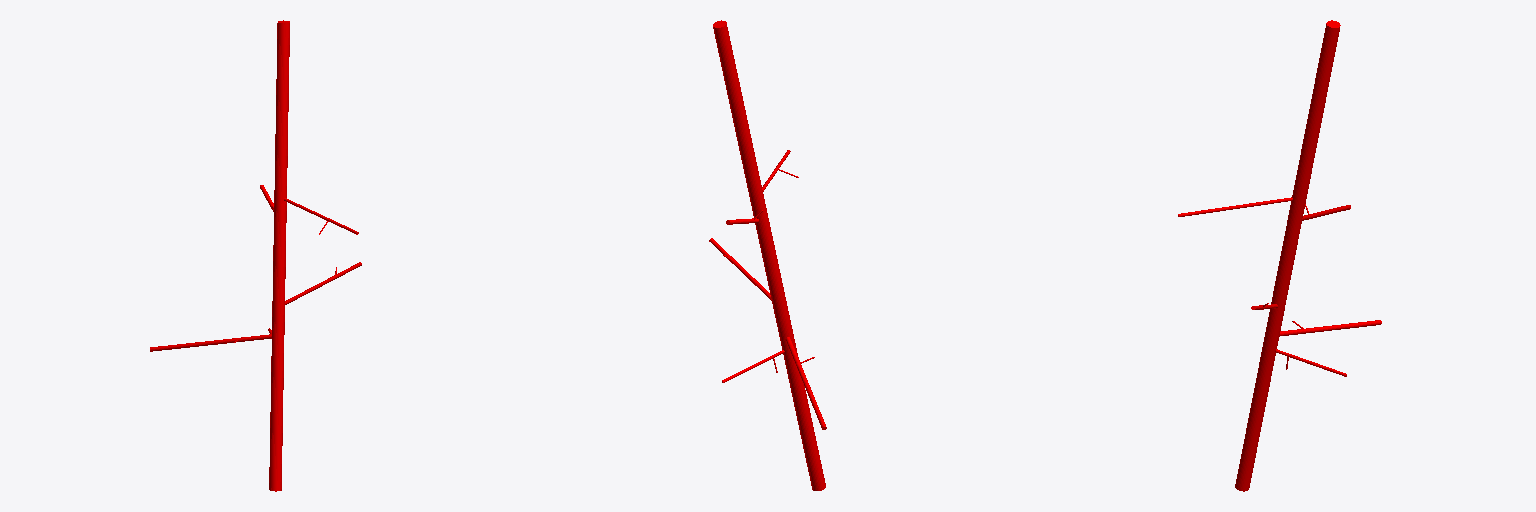
URDF robot description (tree_43.urdf):
<?xml version='1.0' encoding='UTF-8'?>
<robot name="tree_43.urdf">
  <link name="branch_0">
    <inertial>
      <origin xyz="0.0 0.0 0.0" rpy="0.0 -0.0 0.0"/>
      <mass value="0.1"/>
      <inertia ixx="0.001" ixy="0.0" ixz="0.0" iyy="0.001" iyz="0.0" izz="0.001"/>
    </inertial>
    <visual name="branch_0_visual">
      <geometry>
        <cylinder radius="0.09272214818983693" length="7.057706722959421"/>
      </geometry>
      <material name="semantic_material"/>
      <origin xyz="0.4082733569103331 0.5835118439904567 3.4562454832934932" rpy="5.551115123125783e-17 0.20320647457545538 0.9602831004716582"/>
    </visual>
    <collision name="branch_0_collision">
      <geometry>
        <cylinder radius="0.09272214818983693" length="7.057706722959421"/>
      </geometry>
      <origin xyz="0.4082733569103331 0.5835118439904567 3.4562454832934932" rpy="5.551115123125783e-17 0.20320647457545538 0.9602831004716582"/>
    </collision>
  </link>
  <link name="branch_1">
    <inertial>
      <origin xyz="0.0 0.0 0.0" rpy="0.0 -0.0 0.0"/>
      <mass value="0.1"/>
      <inertia ixx="0.001" ixy="0.0" ixz="0.0" iyy="0.001" iyz="0.0" izz="0.001"/>
    </inertial>
    <visual name="branch_1_visual">
      <geometry>
        <cylinder radius="0.028512248447388585" length="1.371884924202704"/>
      </geometry>
      <material name="semantic_material"/>
      <origin xyz="0.0 0.0 0.0" rpy="0.0 -0.0 0.0"/>
    </visual>
    <collision name="branch_1_collision">
      <geometry>
        <cylinder radius="0.028512248447388585" length="1.371884924202704"/>
      </geometry>
      <origin xyz="0.0 0.0 0.0" rpy="0.0 -0.0 0.0"/>
    </collision>
  </link>
  <link name="branch_2">
    <inertial>
      <origin xyz="0.0 0.0 0.0" rpy="0.0 -0.0 0.0"/>
      <mass value="0.1"/>
      <inertia ixx="0.001" ixy="0.0" ixz="0.0" iyy="0.001" iyz="0.0" izz="0.001"/>
    </inertial>
    <visual name="branch_2_visual">
      <geometry>
        <cylinder radius="0.01" length="0.15637905510150962"/>
      </geometry>
      <material name="semantic_material"/>
      <origin xyz="0.0 0.0 0.0" rpy="0.0 -0.0 0.0"/>
    </visual>
    <collision name="branch_2_collision">
      <geometry>
        <cylinder radius="0.01" length="0.15637905510150962"/>
      </geometry>
      <origin xyz="0.0 0.0 0.0" rpy="0.0 -0.0 0.0"/>
    </collision>
  </link>
  <link name="branch_3">
    <inertial>
      <origin xyz="0.0 0.0 0.0" rpy="0.0 -0.0 0.0"/>
      <mass value="0.1"/>
      <inertia ixx="0.001" ixy="0.0" ixz="0.0" iyy="0.001" iyz="0.0" izz="0.001"/>
    </inertial>
    <visual name="branch_3_visual">
      <geometry>
        <cylinder radius="0.022987652517376545" length="1.6013910973770178"/>
      </geometry>
      <material name="semantic_material"/>
      <origin xyz="0.0 0.0 0.0" rpy="0.0 -0.0 0.0"/>
    </visual>
    <collision name="branch_3_collision">
      <geometry>
        <cylinder radius="0.022987652517376545" length="1.6013910973770178"/>
      </geometry>
      <origin xyz="0.0 0.0 0.0" rpy="0.0 -0.0 0.0"/>
    </collision>
  </link>
  <link name="branch_4">
    <inertial>
      <origin xyz="0.0 0.0 0.0" rpy="0.0 -0.0 0.0"/>
      <mass value="0.1"/>
      <inertia ixx="0.001" ixy="0.0" ixz="0.0" iyy="0.001" iyz="0.0" izz="0.001"/>
    </inertial>
    <visual name="branch_4_visual">
      <geometry>
        <cylinder radius="0.01" length="0.31152533745409244"/>
      </geometry>
      <material name="semantic_material"/>
      <origin xyz="0.0 0.0 0.0" rpy="0.0 -0.0 0.0"/>
    </visual>
    <collision name="branch_4_collision">
      <geometry>
        <cylinder radius="0.01" length="0.31152533745409244"/>
      </geometry>
      <origin xyz="0.0 0.0 0.0" rpy="0.0 -0.0 0.0"/>
    </collision>
  </link>
  <link name="branch_5">
    <inertial>
      <origin xyz="0.0 0.0 0.0" rpy="0.0 -0.0 0.0"/>
      <mass value="0.1"/>
      <inertia ixx="0.001" ixy="0.0" ixz="0.0" iyy="0.001" iyz="0.0" izz="0.001"/>
    </inertial>
    <visual name="branch_5_visual">
      <geometry>
        <cylinder radius="0.03130832208716406" length="0.7539563826562632"/>
      </geometry>
      <material name="semantic_material"/>
      <origin xyz="0.0 0.0 0.0" rpy="0.0 -0.0 0.0"/>
    </visual>
    <collision name="branch_5_collision">
      <geometry>
        <cylinder radius="0.03130832208716406" length="0.7539563826562632"/>
      </geometry>
      <origin xyz="0.0 0.0 0.0" rpy="0.0 -0.0 0.0"/>
    </collision>
  </link>
  <link name="branch_6">
    <inertial>
      <origin xyz="0.0 0.0 0.0" rpy="0.0 -0.0 0.0"/>
      <mass value="0.1"/>
      <inertia ixx="0.001" ixy="0.0" ixz="0.0" iyy="0.001" iyz="0.0" izz="0.001"/>
    </inertial>
    <visual name="branch_6_visual">
      <geometry>
        <cylinder radius="0.01" length="0.19498363850834788"/>
      </geometry>
      <material name="semantic_material"/>
      <origin xyz="0.0 0.0 0.0" rpy="0.0 -0.0 0.0"/>
    </visual>
    <collision name="branch_6_collision">
      <geometry>
        <cylinder radius="0.01" length="0.19498363850834788"/>
      </geometry>
      <origin xyz="0.0 0.0 0.0" rpy="0.0 -0.0 0.0"/>
    </collision>
  </link>
  <link name="branch_7">
    <inertial>
      <origin xyz="0.0 0.0 0.0" rpy="0.0 -0.0 0.0"/>
      <mass value="0.1"/>
      <inertia ixx="0.001" ixy="0.0" ixz="0.0" iyy="0.001" iyz="0.0" izz="0.001"/>
    </inertial>
    <visual name="branch_7_visual">
      <geometry>
        <cylinder radius="0.0215005593996787" length="1.0910566503989045"/>
      </geometry>
      <material name="semantic_material"/>
      <origin xyz="0.0 0.0 0.0" rpy="0.0 -0.0 0.0"/>
    </visual>
    <collision name="branch_7_collision">
      <geometry>
        <cylinder radius="0.0215005593996787" length="1.0910566503989045"/>
      </geometry>
      <origin xyz="0.0 0.0 0.0" rpy="0.0 -0.0 0.0"/>
    </collision>
  </link>
  <link name="branch_8">
    <inertial>
      <origin xyz="0.0 0.0 0.0" rpy="0.0 -0.0 0.0"/>
      <mass value="0.1"/>
      <inertia ixx="0.001" ixy="0.0" ixz="0.0" iyy="0.001" iyz="0.0" izz="0.001"/>
    </inertial>
    <visual name="branch_8_visual">
      <geometry>
        <cylinder radius="0.01" length="0.23105213754643494"/>
      </geometry>
      <material name="semantic_material"/>
      <origin xyz="0.0 0.0 0.0" rpy="0.0 -0.0 0.0"/>
    </visual>
    <collision name="branch_8_collision">
      <geometry>
        <cylinder radius="0.01" length="0.23105213754643494"/>
      </geometry>
      <origin xyz="0.0 0.0 0.0" rpy="0.0 -0.0 0.0"/>
    </collision>
  </link>
  <link name="branch_9">
    <inertial>
      <origin xyz="0.0 0.0 0.0" rpy="0.0 -0.0 0.0"/>
      <mass value="0.1"/>
      <inertia ixx="0.001" ixy="0.0" ixz="0.0" iyy="0.001" iyz="0.0" izz="0.001"/>
    </inertial>
    <visual name="branch_9_visual">
      <geometry>
        <cylinder radius="0.032198285912413416" length="1.997518507283669"/>
      </geometry>
      <material name="semantic_material"/>
      <origin xyz="0.0 0.0 0.0" rpy="0.0 -0.0 0.0"/>
    </visual>
    <collision name="branch_9_collision">
      <geometry>
        <cylinder radius="0.032198285912413416" length="1.997518507283669"/>
      </geometry>
      <origin xyz="0.0 0.0 0.0" rpy="0.0 -0.0 0.0"/>
    </collision>
  </link>
  <link name="branch_10">
    <inertial>
      <origin xyz="0.0 0.0 0.0" rpy="0.0 -0.0 0.0"/>
      <mass value="0.1"/>
      <inertia ixx="0.001" ixy="0.0" ixz="0.0" iyy="0.001" iyz="0.0" izz="0.001"/>
    </inertial>
    <visual name="branch_10_visual">
      <geometry>
        <cylinder radius="0.01" length="0.23811235783748366"/>
      </geometry>
      <material name="semantic_material"/>
      <origin xyz="0.0 0.0 0.0" rpy="0.0 -0.0 0.0"/>
    </visual>
    <collision name="branch_10_collision">
      <geometry>
        <cylinder radius="0.01" length="0.23811235783748366"/>
      </geometry>
      <origin xyz="0.0 0.0 0.0" rpy="0.0 -0.0 0.0"/>
    </collision>
  </link>
  <joint name="joint_0_1" type="fixed">
    <parent link="branch_0"/>
    <child link="branch_1"/>
    <axis xyz="1. 0. 0."/>
    <origin xyz="0.9307585445322089 0.30077715566188756 2.9786022491814657" rpy="-0.4589227186822222 1.1161358658165872 -0.7536495886143352"/>
  </joint>
  <joint name="joint_0_3" type="fixed">
    <parent link="branch_0"/>
    <child link="branch_3"/>
    <axis xyz="1. 0. 0."/>
    <origin xyz="0.7179950015445213 -0.04335583740404315 4.293484735407542" rpy="-1.7854416503130612 1.409786111522555 -3.0911273919047884"/>
  </joint>
  <joint name="joint_0_5" type="fixed">
    <parent link="branch_0"/>
    <child link="branch_5"/>
    <axis xyz="1. 0. 0."/>
    <origin xyz="0.5186155563391762 1.0285125294105955 4.106145702230983" rpy="0.3114306806222054 1.2376309063005961 1.766307602065474"/>
  </joint>
  <joint name="joint_0_7" type="fixed">
    <parent link="branch_0"/>
    <child link="branch_7"/>
    <axis xyz="1. 0. 0."/>
    <origin xyz="0.46074269416368996 0.8434311853985396 1.9856446349548285" rpy="2.909107813028068 1.3996426411854643 -2.218752897216111"/>
  </joint>
  <joint name="joint_0_9" type="fixed">
    <parent link="branch_0"/>
    <child link="branch_9"/>
    <axis xyz="1. 0. 0."/>
    <origin xyz="-0.4147555373350097 1.074791848364931 2.047656518091348" rpy="2.4374930432994657 1.2618466892424618 -1.5179053137518157"/>
  </joint>
  <joint name="joint_1_2" type="fixed">
    <parent link="branch_0"/>
    <child link="branch_2"/>
    <axis xyz="1. 0. 0."/>
    <origin xyz="1.1938679424472454 0.2901703703947979 3.125682563519029" rpy="0.9016084250570615 0.05401481782767027 2.3891025819903198"/>
  </joint>
  <joint name="joint_3_4" type="fixed">
    <parent link="branch_0"/>
    <child link="branch_4"/>
    <axis xyz="1. 0. 0."/>
    <origin xyz="0.6460340876713143 -0.3065496367856581 4.224216545608006" rpy="-1.9846458557930546 0.06909251116843157 2.065861610305939"/>
  </joint>
  <joint name="joint_5_6" type="fixed">
    <parent link="branch_0"/>
    <child link="branch_6"/>
    <axis xyz="1. 0. 0."/>
    <origin xyz="0.44211344942872643 0.8304457366405283 4.125234151862188" rpy="0.5772505446094489 0.4555348544023197 -1.6097869698331277"/>
  </joint>
  <joint name="joint_7_8" type="fixed">
    <parent link="branch_0"/>
    <child link="branch_8"/>
    <axis xyz="1. 0. 0."/>
    <origin xyz="0.32655735976405903 0.578835254086212 1.919551393796582" rpy="2.9940197275069167 -0.1763368512760519 -1.9814644272416355"/>
  </joint>
  <joint name="joint_9_10" type="fixed">
    <parent link="branch_0"/>
    <child link="branch_10"/>
    <axis xyz="1. 0. 0."/>
    <origin xyz="-0.23486843468013768 0.7316929424452363 2.1689013978356813" rpy="1.2706827040389332 -0.20042499136283018 -0.6741273983472061"/>
  </joint>
  <material name="semantic_material">
    <color rgba="1. 0. 0. 1."/>
  </material>
</robot>

--- What the picture shows (computed from the rendered views, not written in the file) ---
The picture shows the robot from 3 angles, left to right: view 1: azimuth 30°, elevation 25°; view 2: azimuth 150°, elevation 25°; view 3: azimuth 270°, elevation 25°; orthographic projection.
Model tree_43.urdf with 11 links and 10 joints (10 fixed), rooted at branch_0, posed every joint at zero.
Links seen in each view (by area): view 1: branch_0, branch_9; view 2: branch_0; view 3: branch_0.
Boxes of the visible links, box(x1,y1,x2,y2) form: branch_0: box(269, 20, 289, 491); branch_9: box(150, 334, 271, 351); branch_0: box(713, 20, 825, 490); branch_0: box(1235, 20, 1340, 491).
Bounding box of the posed robot: 2.68 × 2.61 × 6.95 m (x, y, z).
Geometry: primitives only (box / cylinder / sphere), no mesh files.
